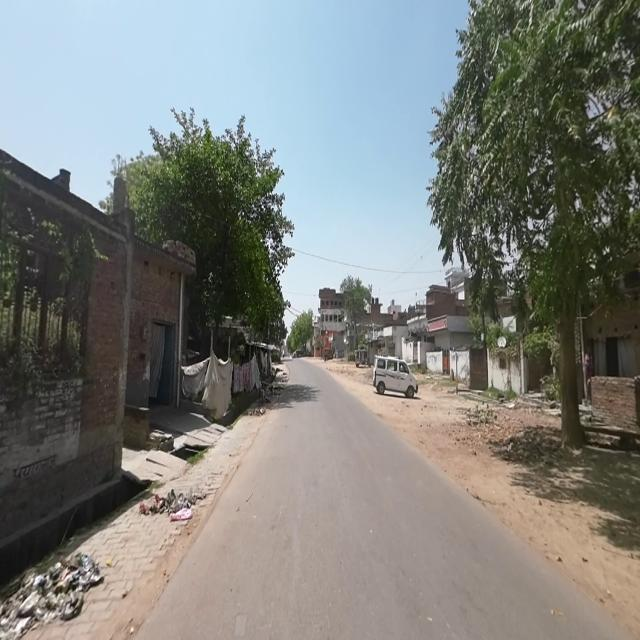Garbage: (33, 554, 105, 620), (140, 490, 205, 521)
